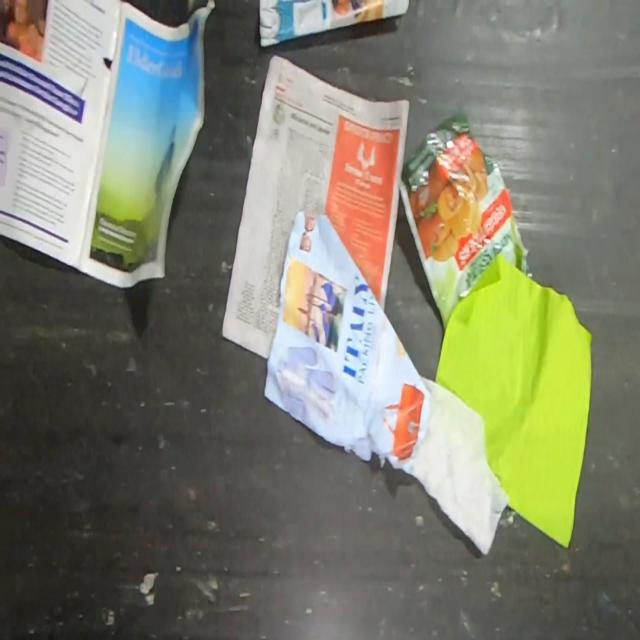soft_plastic: (398, 109, 533, 330)
